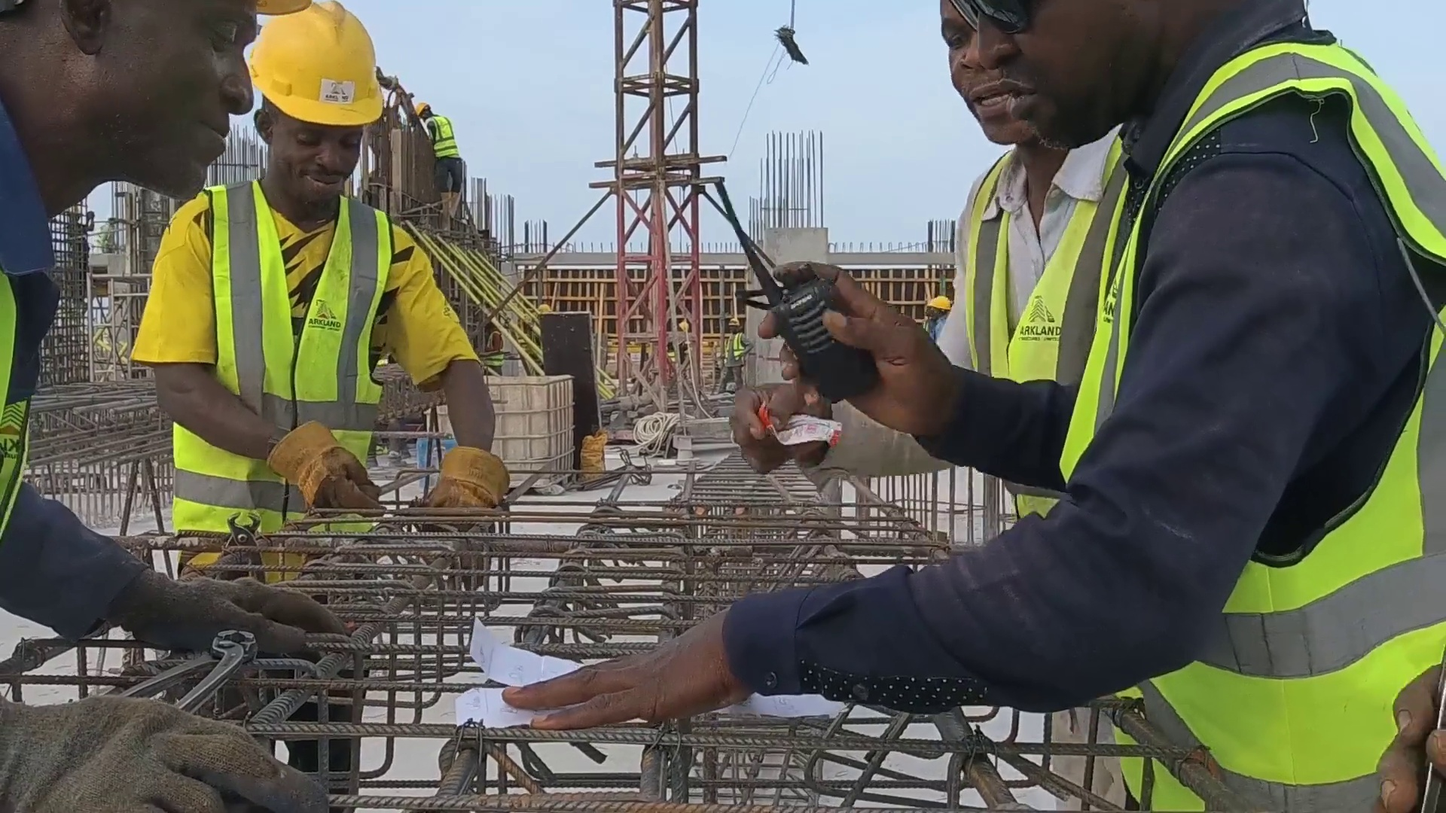helmet: (250, 0, 383, 126), (928, 296, 952, 311), (727, 318, 741, 326)
person: (504, 1, 1445, 803), (0, 2, 354, 658), (131, 2, 512, 574), (933, 2, 1129, 519), (413, 102, 465, 212), (724, 316, 756, 395), (922, 294, 953, 344)
